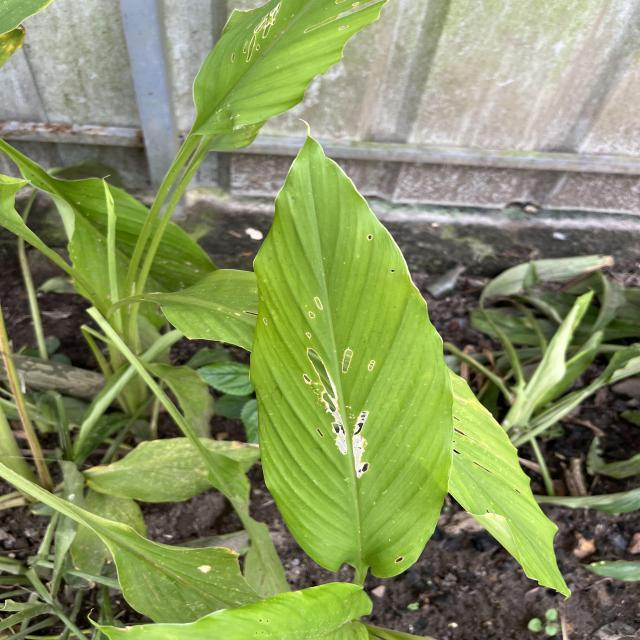Curcuma longa: (247, 110, 460, 584)
